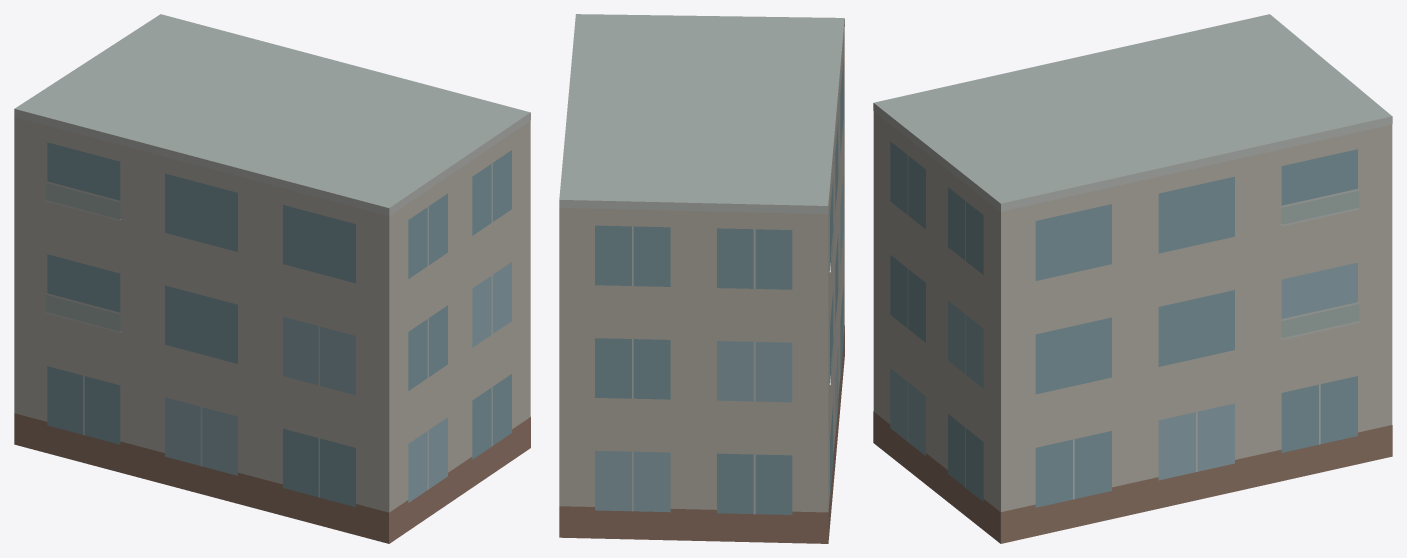
The model's file is survey-upis-33042889.glb.
3 renders of one model, left to right at view 1: azimuth 30°, elevation 25°; view 2: azimuth 150°, elevation 25°; view 3: azimuth 270°, elevation 25°, orthographic.
Parts seen in each view (by area): view 1: survey-upis-33042889.tmp; view 2: survey-upis-33042889.tmp; view 3: survey-upis-33042889.tmp.
Boxes of the visible parts, x1,y1,x2,y2 form: survey-upis-33042889.tmp: [14, 14, 530, 543]; survey-upis-33042889.tmp: [559, 14, 844, 543]; survey-upis-33042889.tmp: [873, 14, 1392, 543].
Size of the model in its own units: 12.21 by 10.2 by 14.11.
